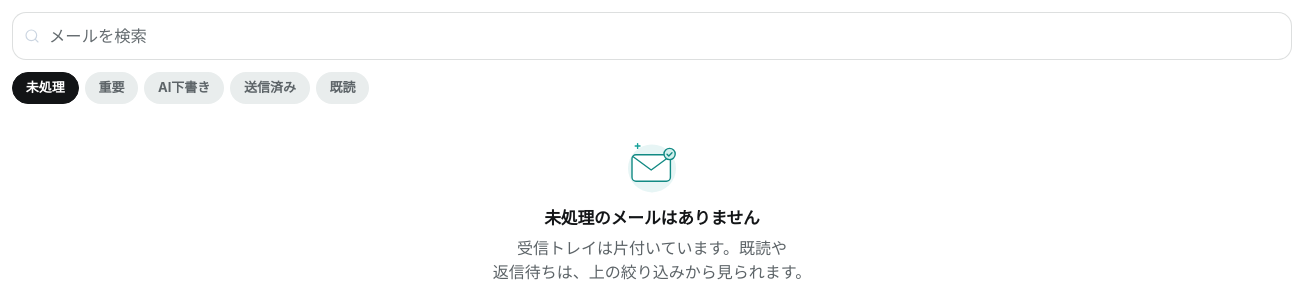
it: メール一覧 › PC(compact) › 重要の印を行に出す
Click the button "重要". click: (111, 88)
box: x1=85 y1=72 x2=138 y2=104
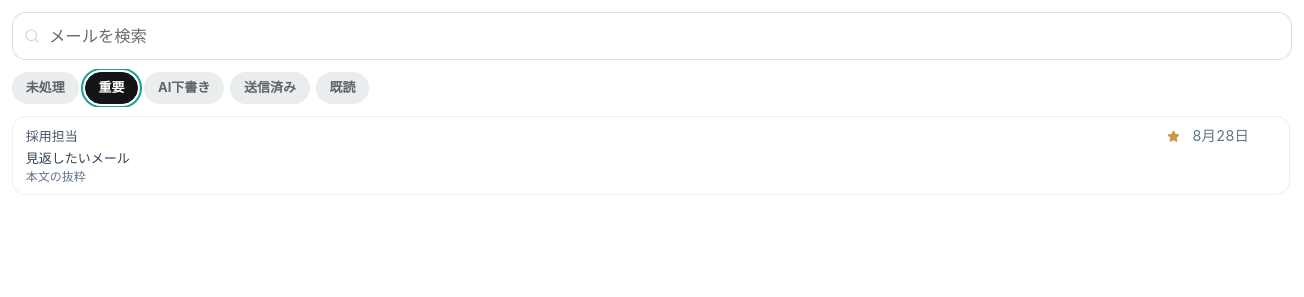
Result: the icon titled "重要" is shown at x1=1163 y1=126 x2=1184 y2=147
